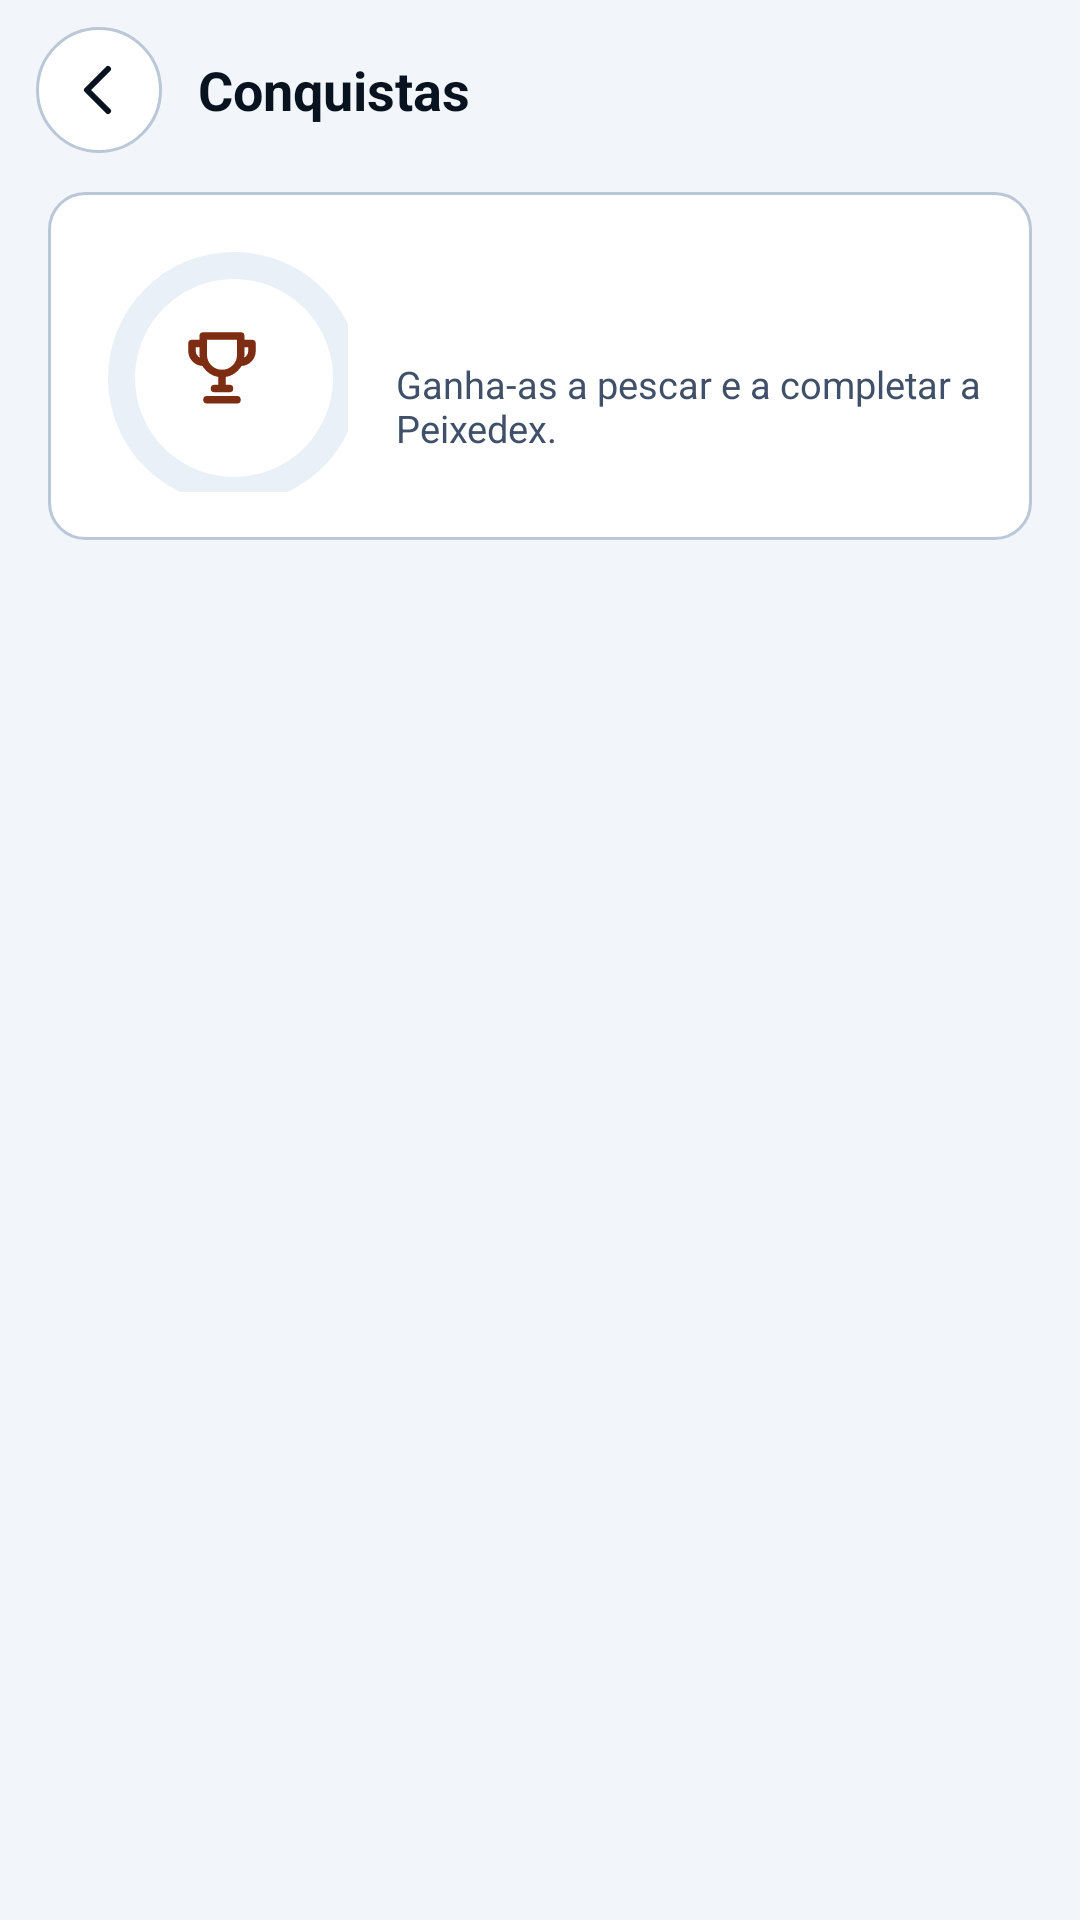

Icons on this 1080 × 1920 Android screen, each with the point to tap as [x,y]:
trofeu: [222,368]
Voltar: [99,90]
